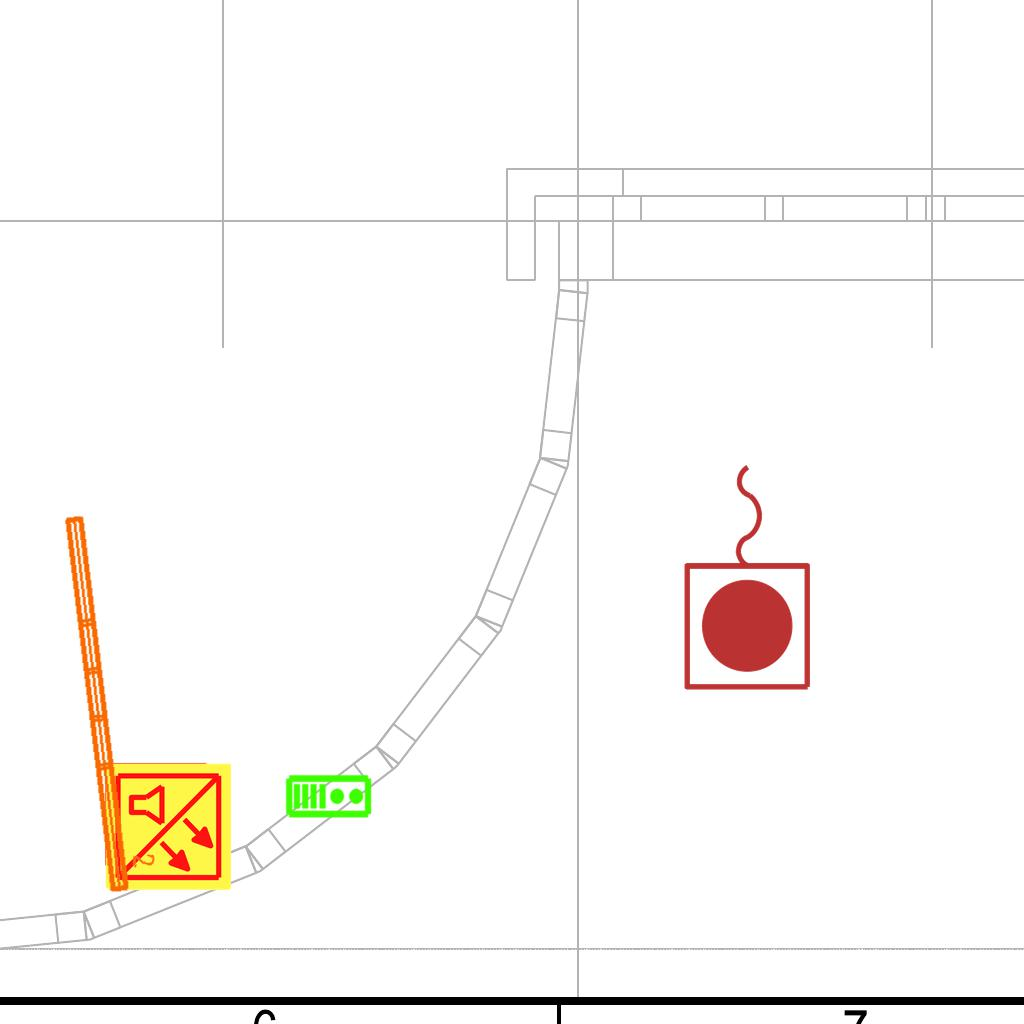Ambulanz_Pendelleuchte_LED: (58, 506, 161, 898)
Gegensprechanlage_mit_Video: (285, 772, 373, 819)
OKW_Multisensormelder_(Kombination_optischer_Rauch-Kahlenmonoxid_Waerme-Melder): (102, 761, 234, 893)
Zugtaster: (677, 454, 821, 698)
